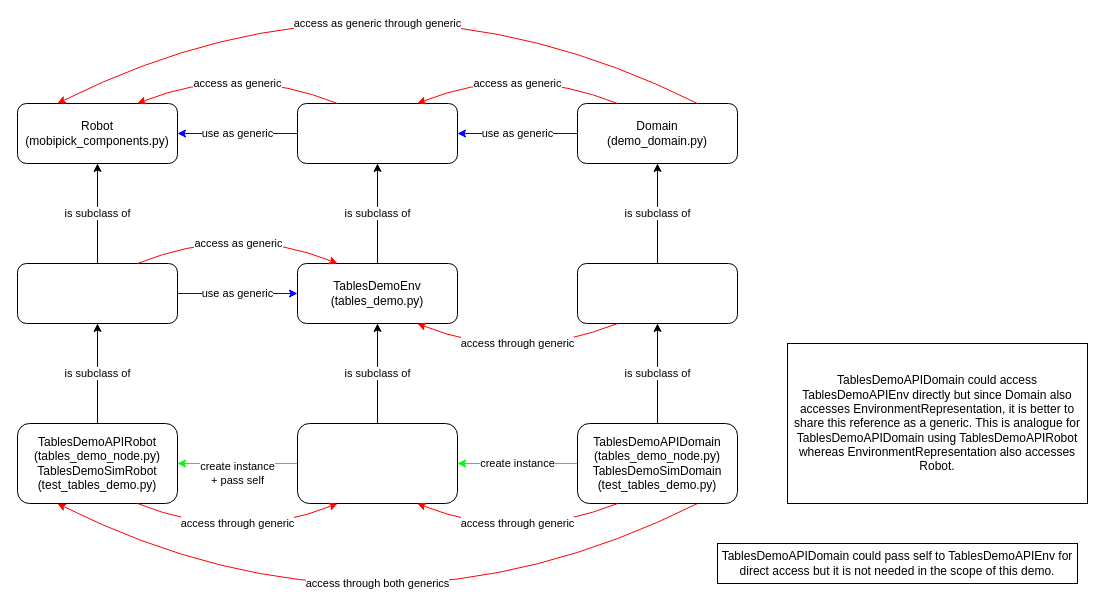
Image size: 1105x608. Some labels were removed from this diagram. Each missing label, with the centre of its shape:
"EnvironmentRepresentation (mobipick_components.py)" goes at point (377, 133).
"TablesDemoAPIEnv (tables_demo_node.py) TablesDemoSimEnv (test_tables_demo.py)" goes at point (377, 463).
"TablesDemoDomain (tables_demo.py)" goes at point (657, 293).
"TablesDemoRobot (tables_demo.py)" goes at point (97, 293).
